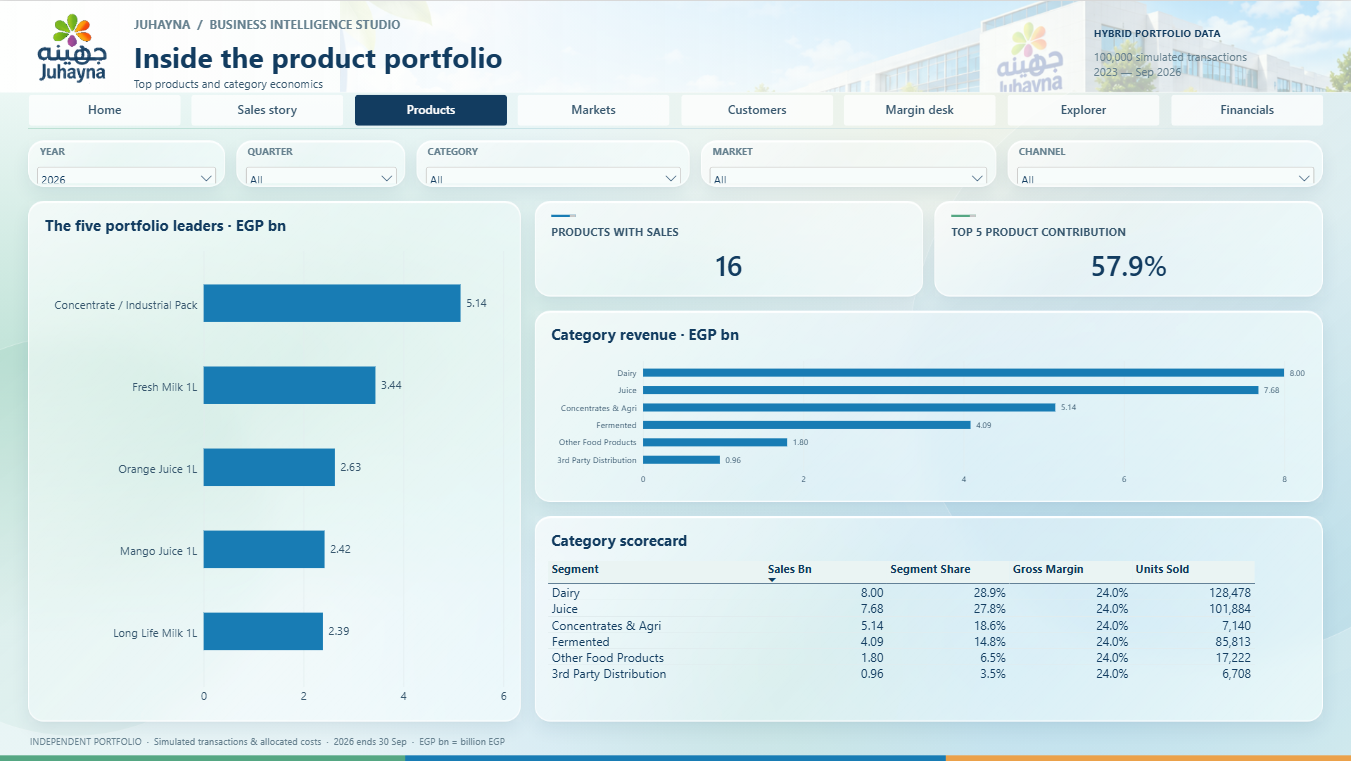

The dashboard page shown, as its layout file describes it:
{"tool":"powerbi","page":{"name":"Products","canvas":[1920,1080],"ordinal":2},"visuals":[{"type":"textbox","box":[40,198,280,66],"z":1},{"type":"textbox","box":[336,198,240,66],"z":1},{"type":"textbox","box":[592,198,388,66],"z":1},{"type":"textbox","box":[996,198,420,66],"z":1},{"type":"textbox","box":[1432,198,448,66],"z":1},{"type":"textbox","box":[40,284,700,740],"z":1},{"type":"textbox","box":[760,284,552,136],"z":1},{"type":"textbox","box":[1328,284,552,136],"z":1},{"type":"textbox","box":[760,440,1120,272],"z":1},{"type":"textbox","box":[760,732,1120,292],"z":1},{"type":"slicer","fields":{"Values":["Dim_Date.Year"]},"box":[48,231,264,28],"z":10},{"type":"slicer","fields":{"Values":["Dim_Date.Quarter"]},"box":[344,231,224,28],"z":10},{"type":"slicer","fields":{"Values":["Dim_Product.Segment"]},"box":[600,231,372,28],"z":10},{"type":"slicer","fields":{"Values":["Dim_Customer.Region"]},"box":[1004,231,404,28],"z":10},{"type":"slicer","fields":{"Values":["Dim_Channel.Channel"]},"box":[1440,231,432,28],"z":10},{"type":"barChart","fields":{"Category":["Dim_Product.Product_Name"],"Y":["_Measures.Sales Top 5 Products"]},"box":[60,348,660,656],"z":10},{"type":"card","fields":{"Values":["_Measures.Selling Products"]},"box":[778,349,516,54],"z":10},{"type":"card","fields":{"Values":["_Measures.Top 5 Product Share"]},"box":[1346,349,516,54],"z":10},{"type":"barChart","fields":{"Category":["Dim_Product.Segment"],"Y":["_Measures.Sales Bn"]},"box":[780,504,1080,188],"z":10},{"type":"tableEx","fields":{"Values":["Dim_Product.Segment","_Measures.Sales Bn","_Measures.Segment Share","_Measures.Gross Margin","_Measures.Units Sold"]},"box":[778,796,1084,208],"z":10},{"type":"textbox","box":[190,21,1110,34],"z":20},{"type":"textbox","box":[1555,34,325,30],"z":20},{"type":"textbox","box":[190,52,1200,68],"z":20},{"type":"textbox","box":[1555,68,325,49],"z":20},{"type":"textbox","box":[190,107,1320,32],"z":20},{"type":"textbox","box":[56,201,248,29],"z":20},{"type":"textbox","box":[352,201,208,29],"z":20},{"type":"textbox","box":[608,201,356,29],"z":20},{"type":"textbox","box":[1012,201,388,29],"z":20},{"type":"textbox","box":[1448,201,416,29],"z":20},{"type":"textbox","box":[64,303,652,40],"z":20},{"type":"textbox","box":[784,304,34,3],"z":20},{"type":"textbox","box":[1352,304,34,3],"z":20},{"type":"textbox","box":[784,316,504,32],"z":20},{"type":"textbox","box":[1352,316,504,32],"z":20},{"type":"textbox","box":[784,459,1072,40],"z":20},{"type":"textbox","box":[784,751,1072,40],"z":20},{"type":"textbox","box":[42,1040,1780,28],"z":20},{"type":"actionButton","box":[40,134,216,44],"z":100},{"type":"actionButton","box":[272,134,216,44],"z":100},{"type":"actionButton","box":[504,134,216,44],"z":100},{"type":"actionButton","box":[736,134,216,44],"z":100},{"type":"actionButton","box":[968,134,216,44],"z":100},{"type":"actionButton","box":[1200,134,216,44],"z":100},{"type":"actionButton","box":[1432,134,216,44],"z":100},{"type":"actionButton","box":[1664,134,216,44],"z":100}]}

Visuals, with their boxes in screenshot pixels (x1, y1, x2, y2), scaled from the page's 1920x1080 canvas onto the 1351x761 screenshot:
textbox: bbox(28, 140, 225, 186)
textbox: bbox(236, 140, 405, 186)
textbox: bbox(417, 140, 690, 186)
textbox: bbox(701, 140, 996, 186)
textbox: bbox(1008, 140, 1323, 186)
textbox: bbox(28, 200, 521, 722)
textbox: bbox(535, 200, 923, 296)
textbox: bbox(934, 200, 1323, 296)
textbox: bbox(535, 310, 1323, 502)
textbox: bbox(535, 516, 1323, 722)
slicer - Dim_Date.Year: bbox(34, 163, 220, 182)
slicer - Dim_Date.Quarter: bbox(242, 163, 400, 182)
slicer - Dim_Product.Segment: bbox(422, 163, 684, 182)
slicer - Dim_Customer.Region: bbox(706, 163, 991, 182)
slicer - Dim_Channel.Channel: bbox(1013, 163, 1317, 182)
barChart - Dim_Product.Product_Name x _Measures.Sales Top 5 Products: bbox(42, 245, 507, 707)
card - _Measures.Selling Products: bbox(547, 246, 911, 284)
card - _Measures.Top 5 Product Share: bbox(947, 246, 1310, 284)
barChart - Dim_Product.Segment x _Measures.Sales Bn: bbox(549, 355, 1309, 488)
tableEx - Dim_Product.Segment x _Measures.Sales Bn: bbox(547, 561, 1310, 707)
textbox: bbox(134, 15, 915, 39)
textbox: bbox(1094, 24, 1323, 45)
textbox: bbox(134, 37, 978, 85)
textbox: bbox(1094, 48, 1323, 82)
textbox: bbox(134, 75, 1063, 98)
textbox: bbox(39, 142, 214, 162)
textbox: bbox(248, 142, 394, 162)
textbox: bbox(428, 142, 678, 162)
textbox: bbox(712, 142, 985, 162)
textbox: bbox(1019, 142, 1312, 162)
textbox: bbox(45, 214, 504, 242)
textbox: bbox(552, 214, 576, 216)
textbox: bbox(951, 214, 975, 216)
textbox: bbox(552, 223, 906, 245)
textbox: bbox(951, 223, 1306, 245)
textbox: bbox(552, 323, 1306, 352)
textbox: bbox(552, 529, 1306, 557)
textbox: bbox(30, 733, 1282, 753)
actionButton: bbox(28, 94, 180, 125)
actionButton: bbox(191, 94, 343, 125)
actionButton: bbox(355, 94, 507, 125)
actionButton: bbox(518, 94, 670, 125)
actionButton: bbox(681, 94, 833, 125)
actionButton: bbox(844, 94, 996, 125)
actionButton: bbox(1008, 94, 1160, 125)
actionButton: bbox(1171, 94, 1323, 125)
